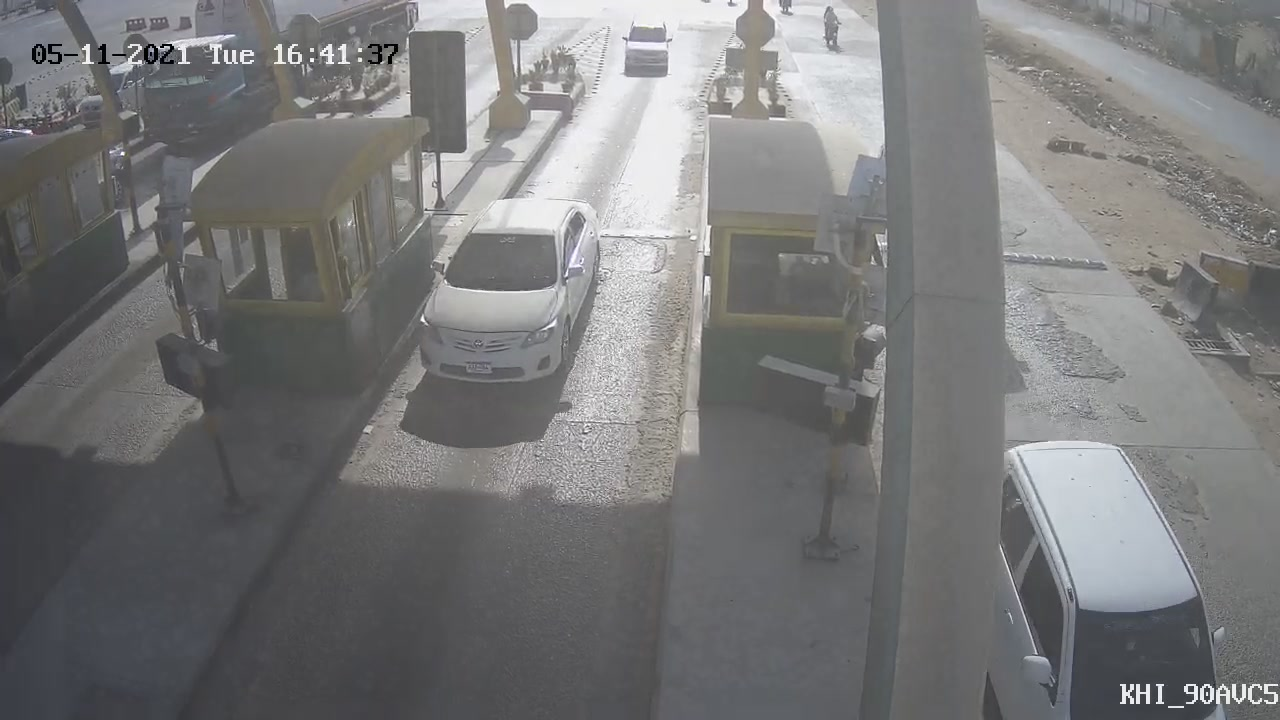F1: (398, 183, 617, 403)
